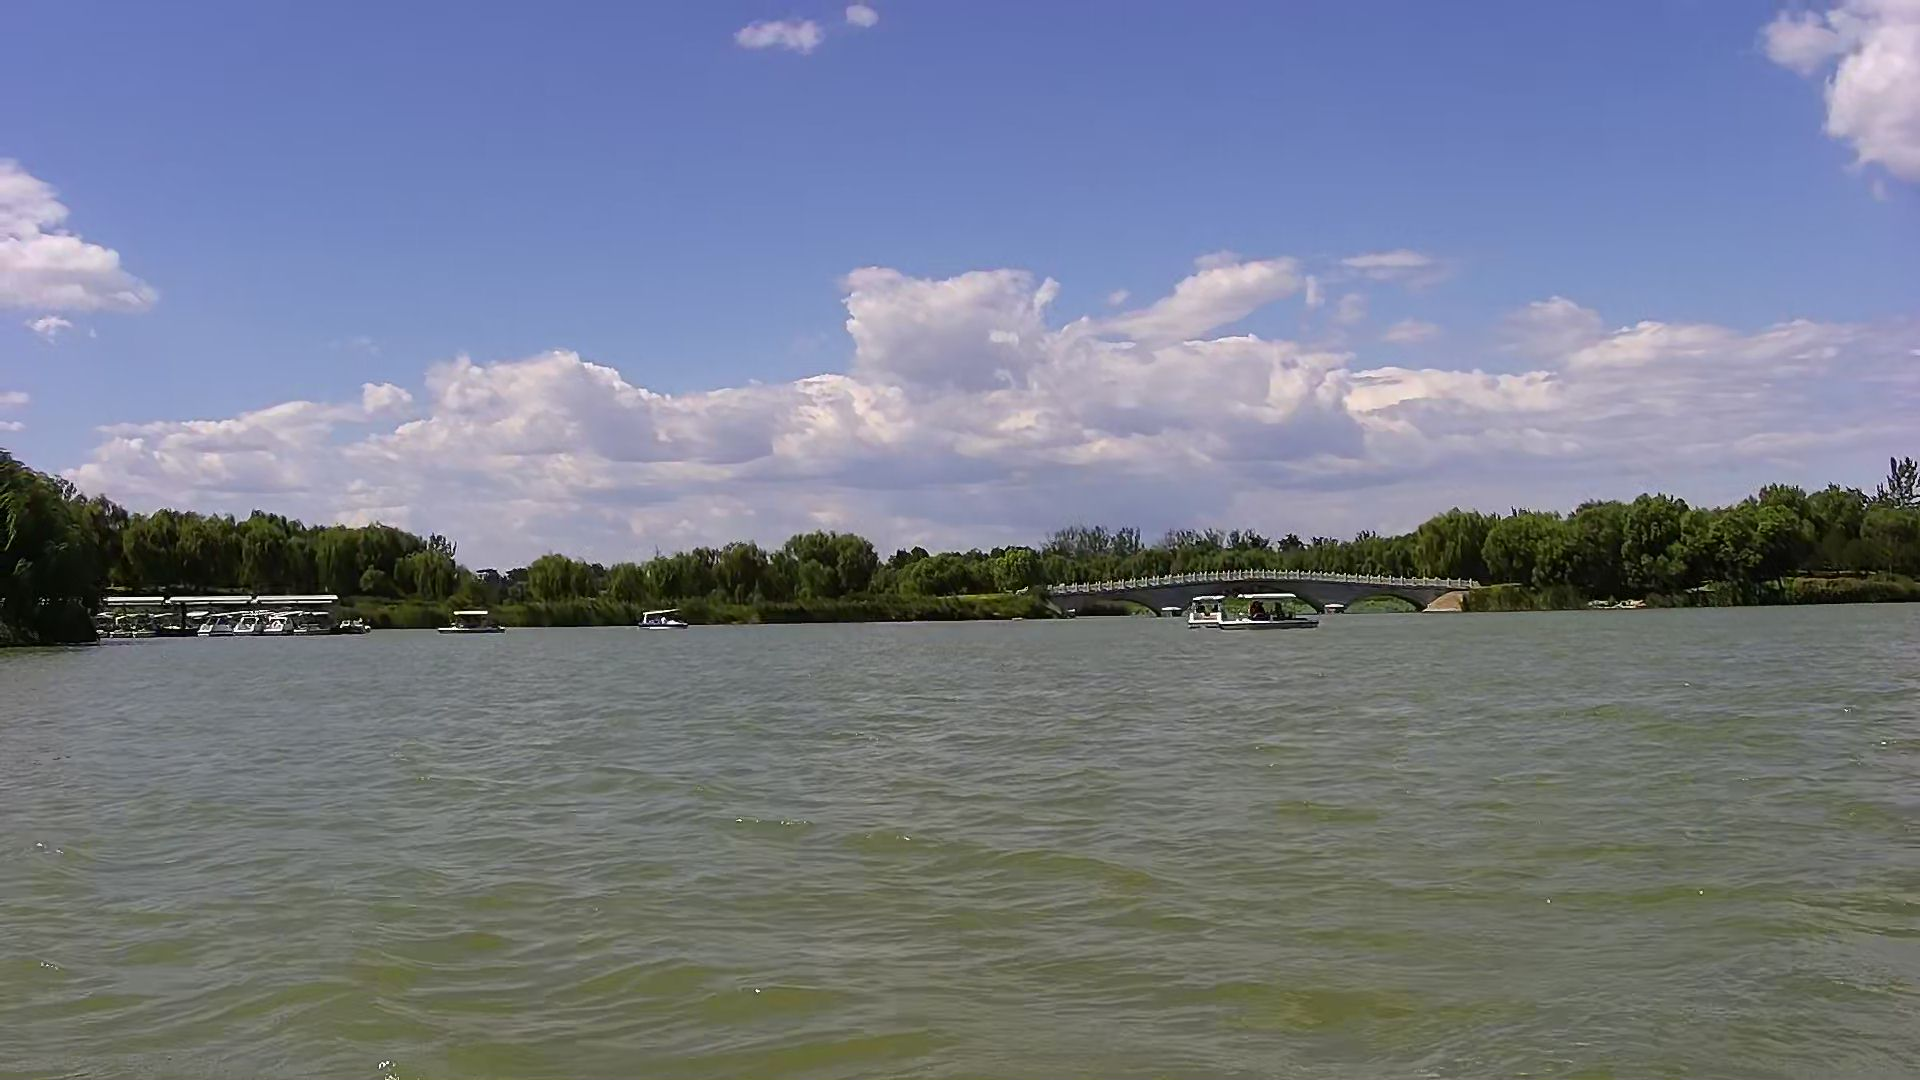boat: (1237, 588, 1319, 634), (1182, 585, 1240, 636), (431, 600, 506, 638), (626, 603, 691, 634)
bridge: (1033, 562, 1476, 615)
